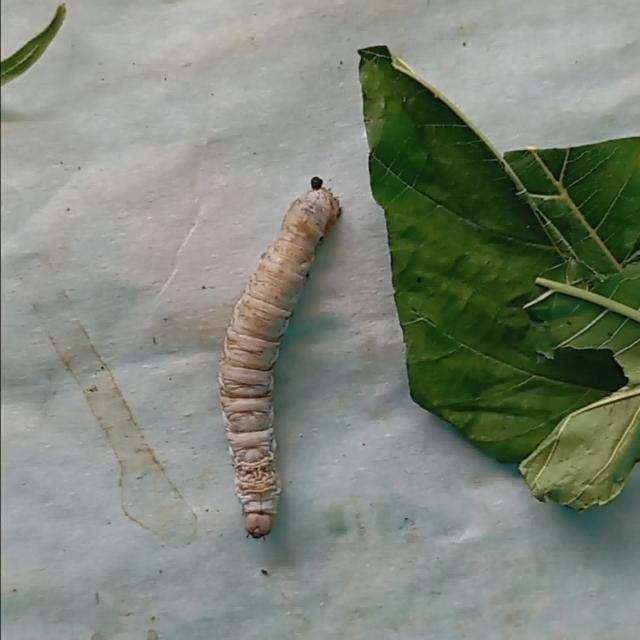Grasserie: (199, 146, 368, 548)
